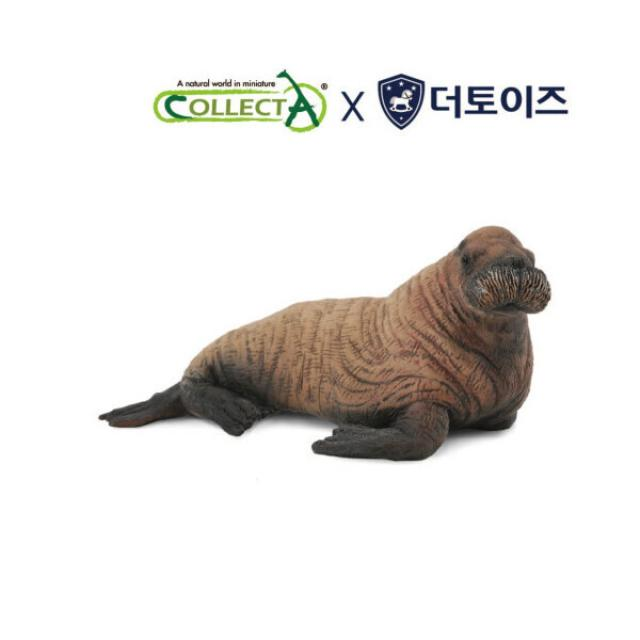walrus: (90, 216, 579, 514)
